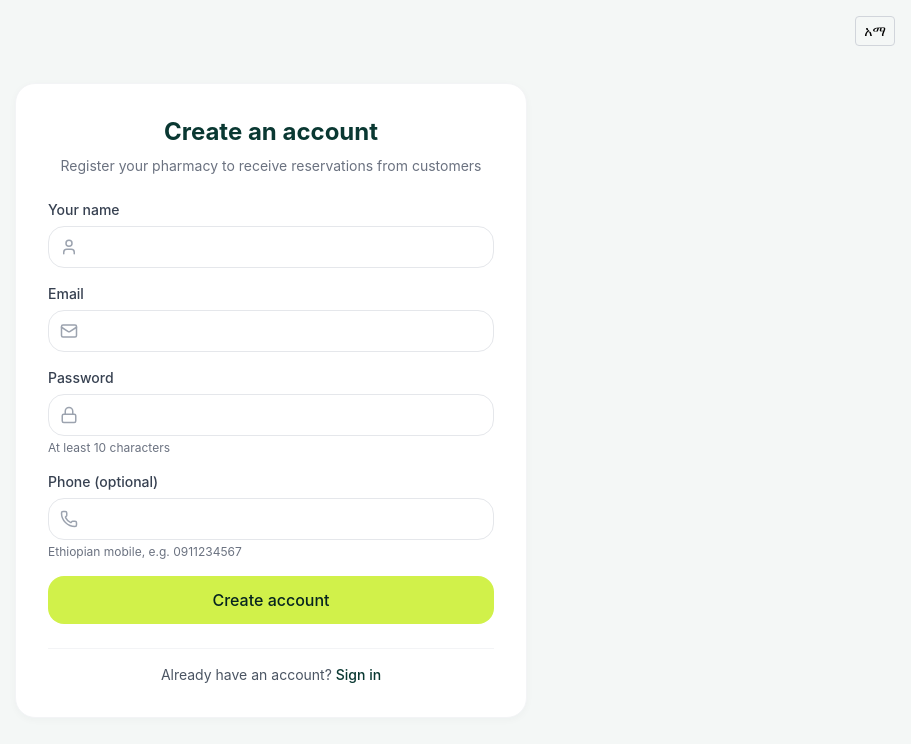
it: RegisterPage › shows inline field error on 422 validation
The width and height of the screenshot is (911, 744).
Type "Test Owner" into the field labelled "Your name".
click(271, 246); type("Test Owner")  # box [48, 226, 494, 268]
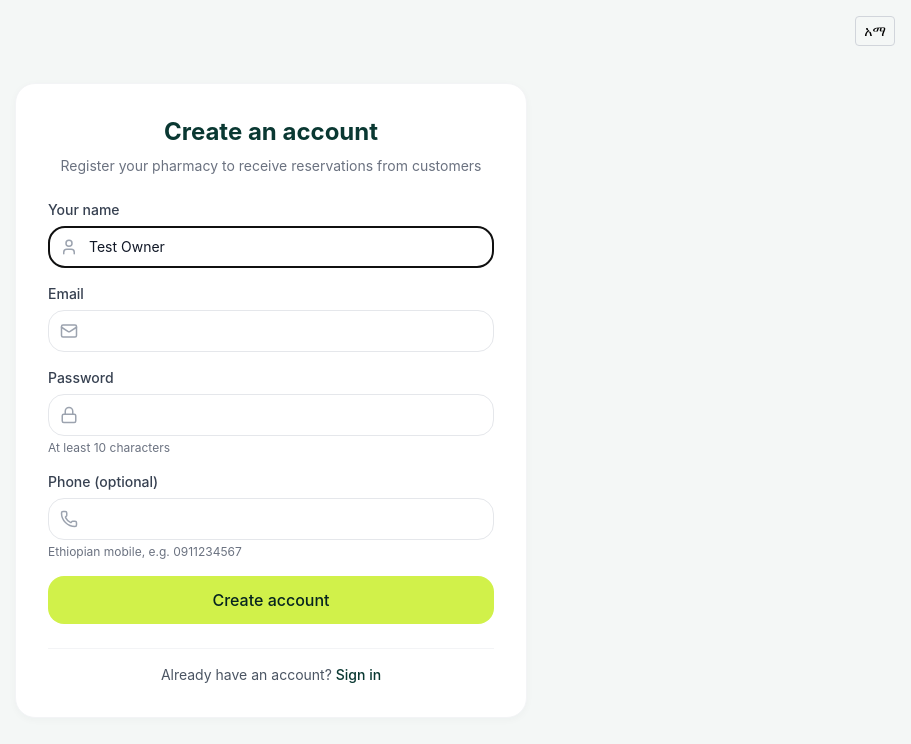
Type "new@test.com" into the field labelled "Email".
click(271, 330); type("new@test.com")  # box [48, 310, 494, 352]
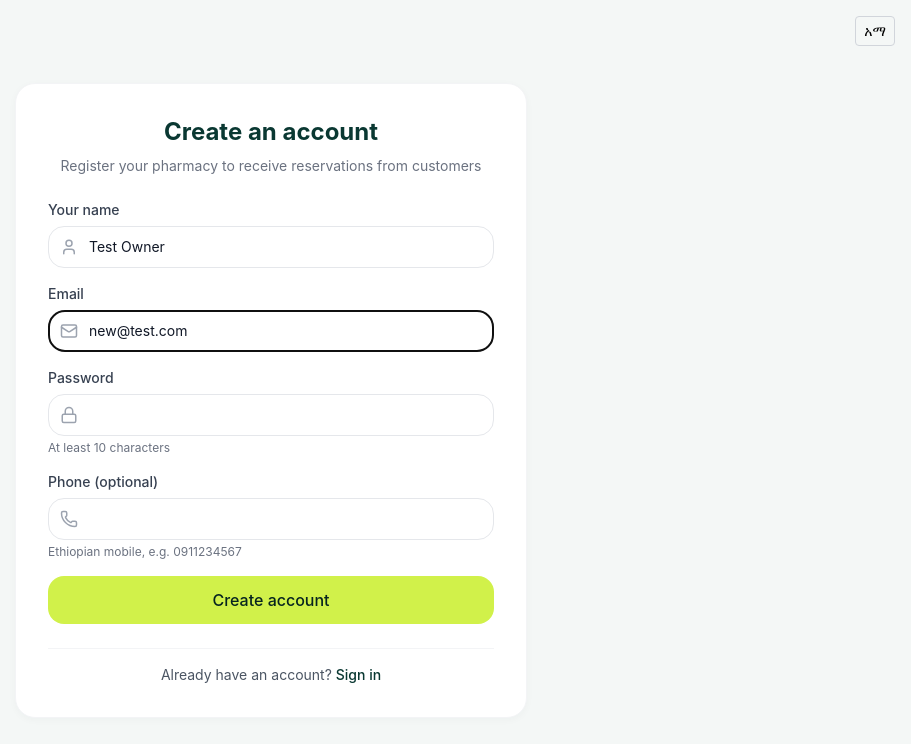
Type "correct-horse-battery" into the password field labelled "Password At least 10 characters".
click(271, 414); type("correct-horse-battery")  # box [48, 394, 494, 436]
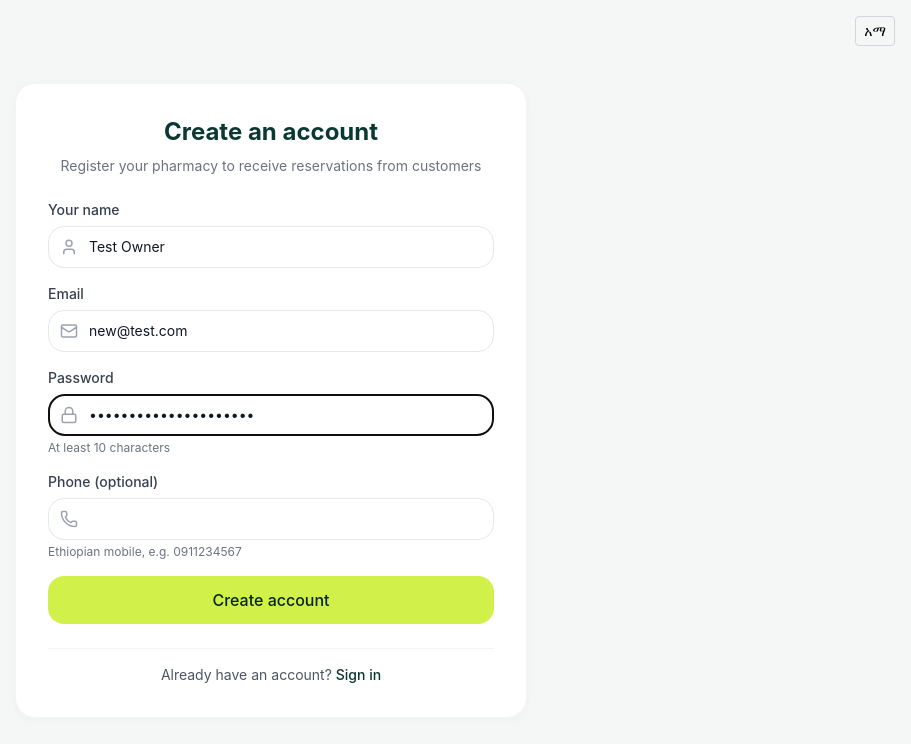
Click the button "Create account".
click(271, 600)  # box [48, 576, 494, 624]
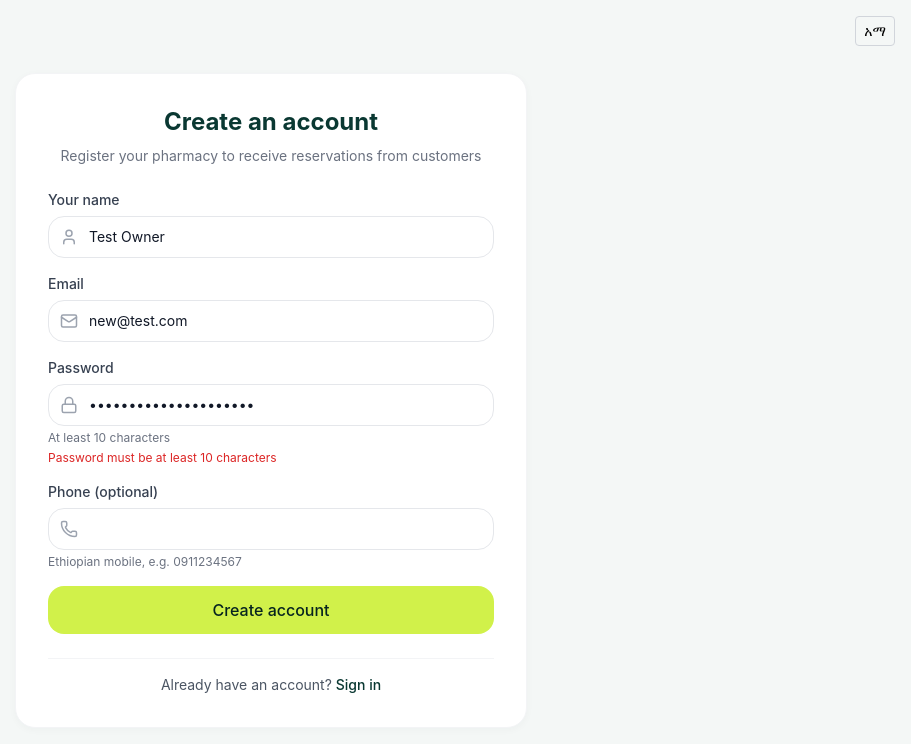
Expected: the text "Password must be at least 10 characters" is shown, [48, 450, 277, 464]
